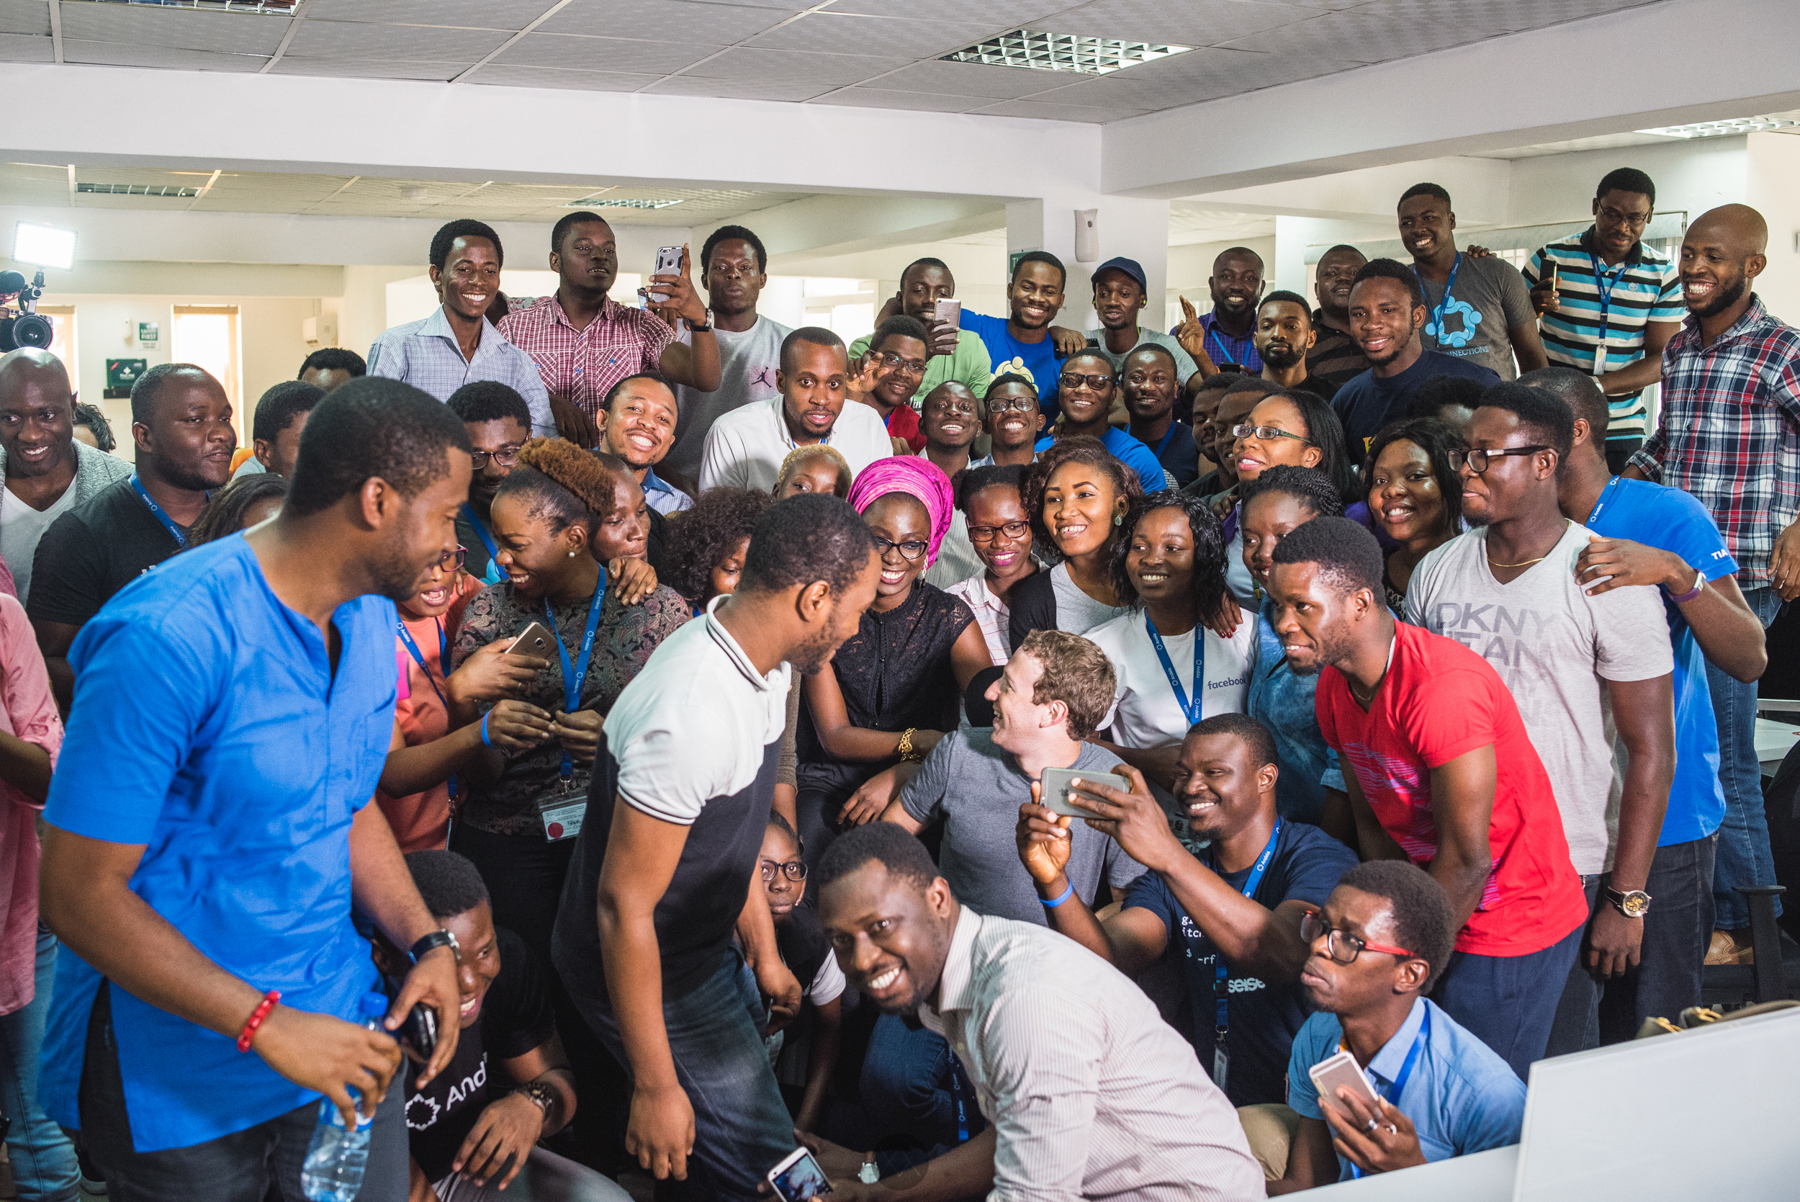person: (1247, 519, 1525, 877), (192, 395, 490, 703), (1627, 170, 1790, 446), (96, 350, 265, 560), (1084, 489, 1255, 674), (537, 191, 669, 405), (1443, 393, 1588, 587), (1327, 274, 1480, 407), (406, 221, 520, 381), (751, 313, 874, 444)
